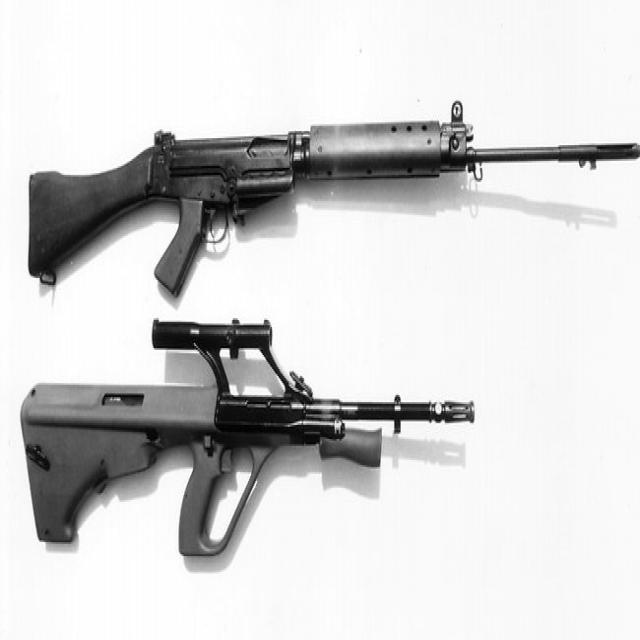gun: (17, 93, 640, 303), (22, 318, 474, 557)
